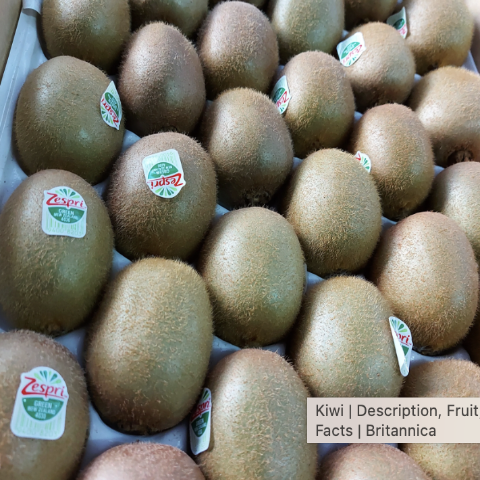kiwi: (72, 238, 224, 439), (286, 261, 416, 423), (177, 336, 318, 480), (2, 161, 122, 330), (368, 202, 480, 374), (279, 137, 387, 284), (108, 11, 212, 154), (116, 126, 216, 265), (341, 96, 436, 223), (266, 47, 364, 158), (206, 75, 298, 189)
